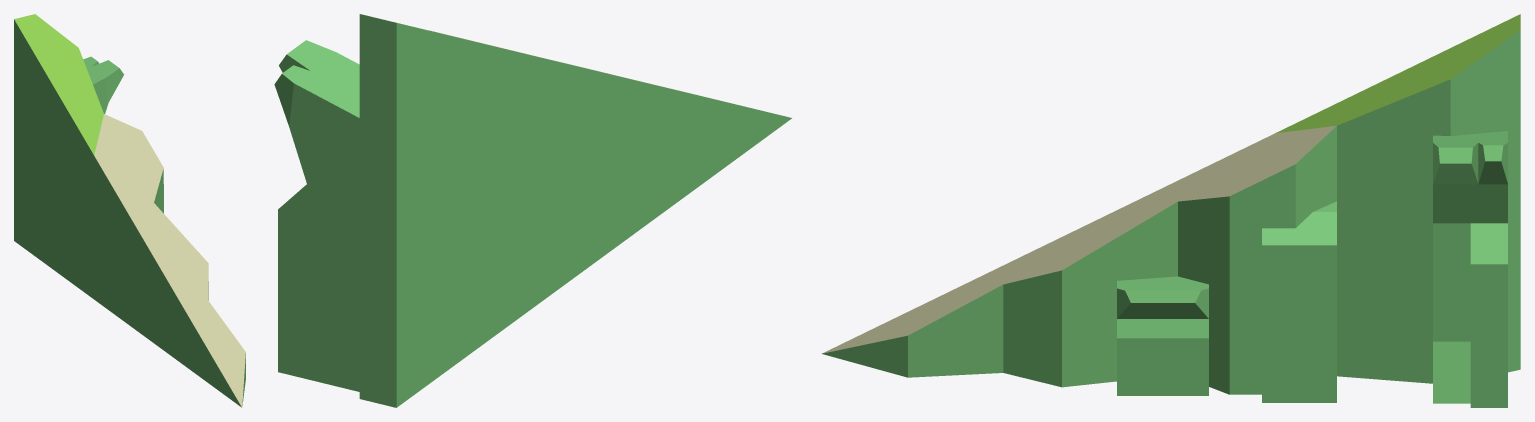
File: x_oo_ground_30_wall_down1_rmstrd.fbx
The picture shows the model from 3 angles, left to right: view 1: azimuth 30°, elevation 25°; view 2: azimuth 150°, elevation 25°; view 3: azimuth 270°, elevation 25°; orthographic projection. The views are drawn at different scales.
Visible parts, largest first — view 1: x_oo_ground_30_wall_down1_rmstrd1; view 2: x_oo_ground_30_wall_down1_rmstrd1; view 3: x_oo_ground_30_wall_down1_rmstrd1.
Part boxes in pixels (x1,y1,x2,y2): x_oo_ground_30_wall_down1_rmstrd1: [14, 14, 245, 407]; x_oo_ground_30_wall_down1_rmstrd1: [274, 14, 791, 407]; x_oo_ground_30_wall_down1_rmstrd1: [821, 14, 1520, 407].
Size of the model in its own units: 1.98 by 5 by 9.32.
